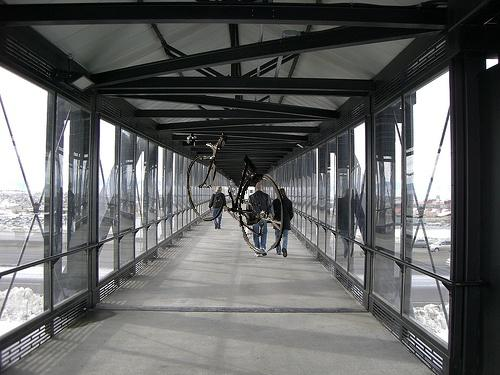tampered: (188, 133, 284, 254)
